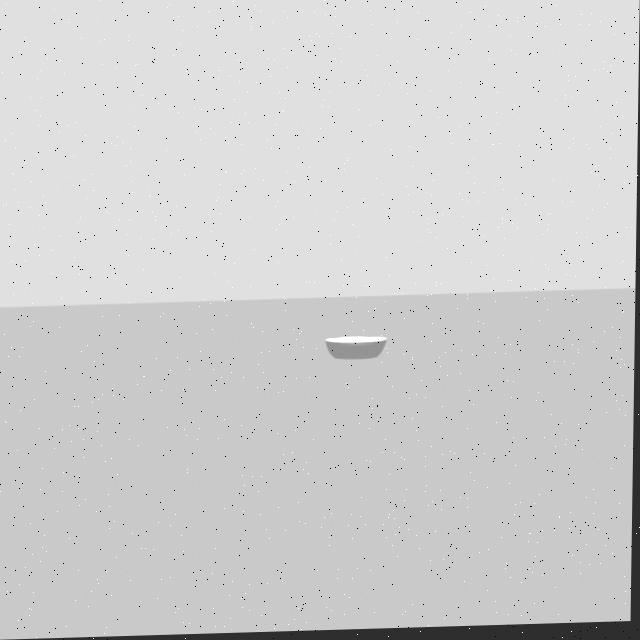bowl: (319, 319, 399, 367)
